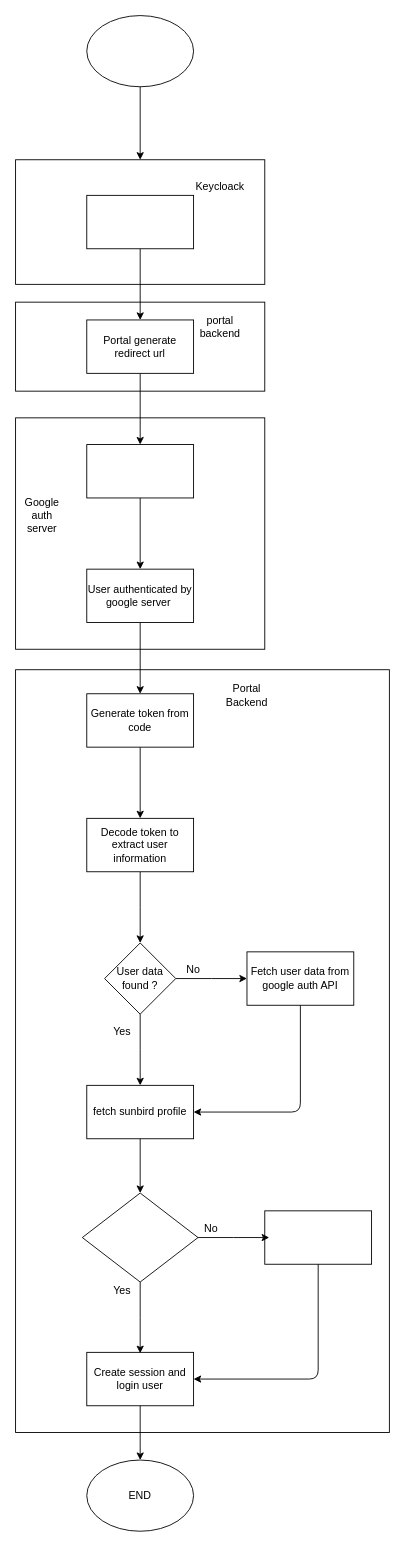
This 405x1547 diagram has some shape labels left out. Here are the shapes that lost their labels. From the top down, the box of each, then its label:
(86, 15, 194, 87): START
(86, 194, 194, 249): User initiates google sign in
(86, 444, 194, 498): User redirected to google page to sign in gmail account
(81, 1192, 198, 1282): userfound in sunbird ?
(264, 1210, 372, 1264): Create new user
